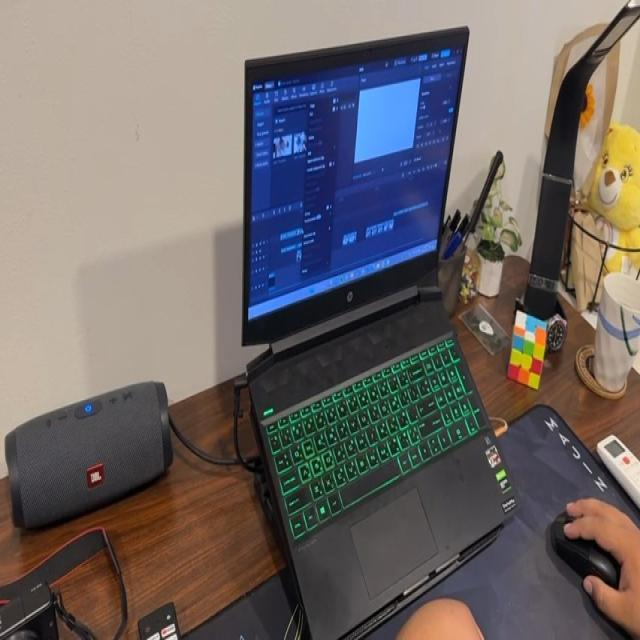laptop_computer: (192, 17, 532, 628)
mouse: (550, 488, 629, 604)
